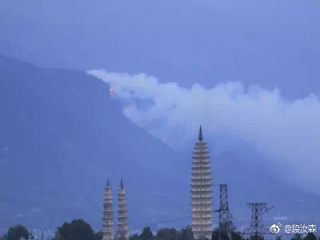smoke: (88, 62, 312, 155)
